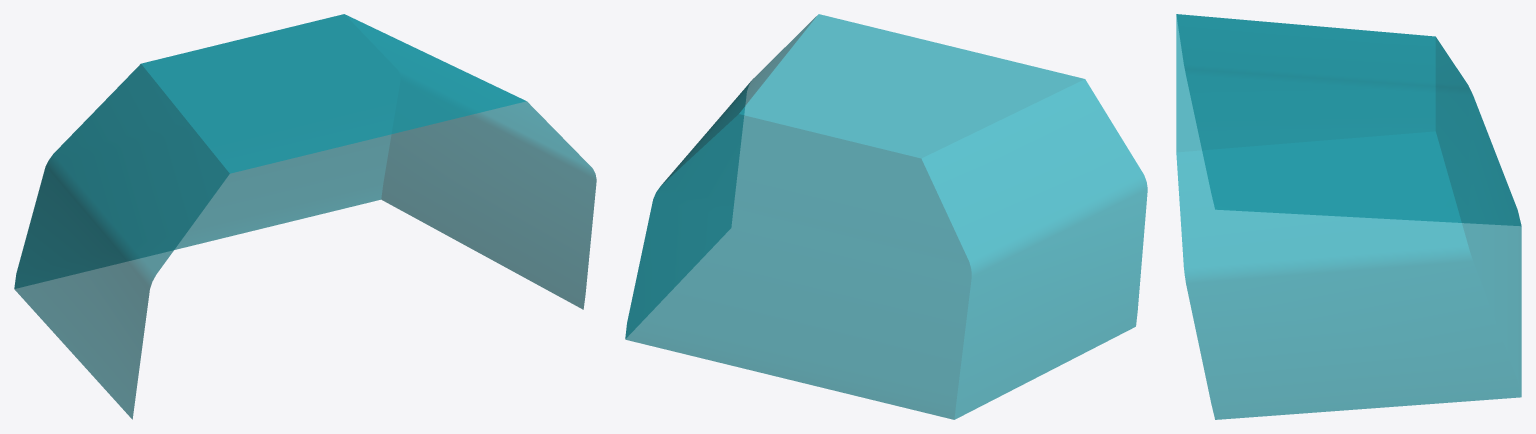
The model's file is Mh_RoomCapsuleGlass.fbx.
The picture shows the model from 3 angles, left to right: view 1: azimuth 30°, elevation 25°; view 2: azimuth 150°, elevation 25°; view 3: azimuth 270°, elevation 25°; orthographic projection. The views are drawn at different scales.
Parts seen in each view (by area): view 1: Mh_RoomCapsuleGlass; view 2: Mh_RoomCapsuleGlass; view 3: Mh_RoomCapsuleGlass.
Boxes of the visible parts, x1,y1,x2,y2 form: Mh_RoomCapsuleGlass: [14, 14, 596, 419]; Mh_RoomCapsuleGlass: [625, 14, 1147, 419]; Mh_RoomCapsuleGlass: [1176, 14, 1521, 419].
Size of the model in its own units: 617 by 317 by 428.
